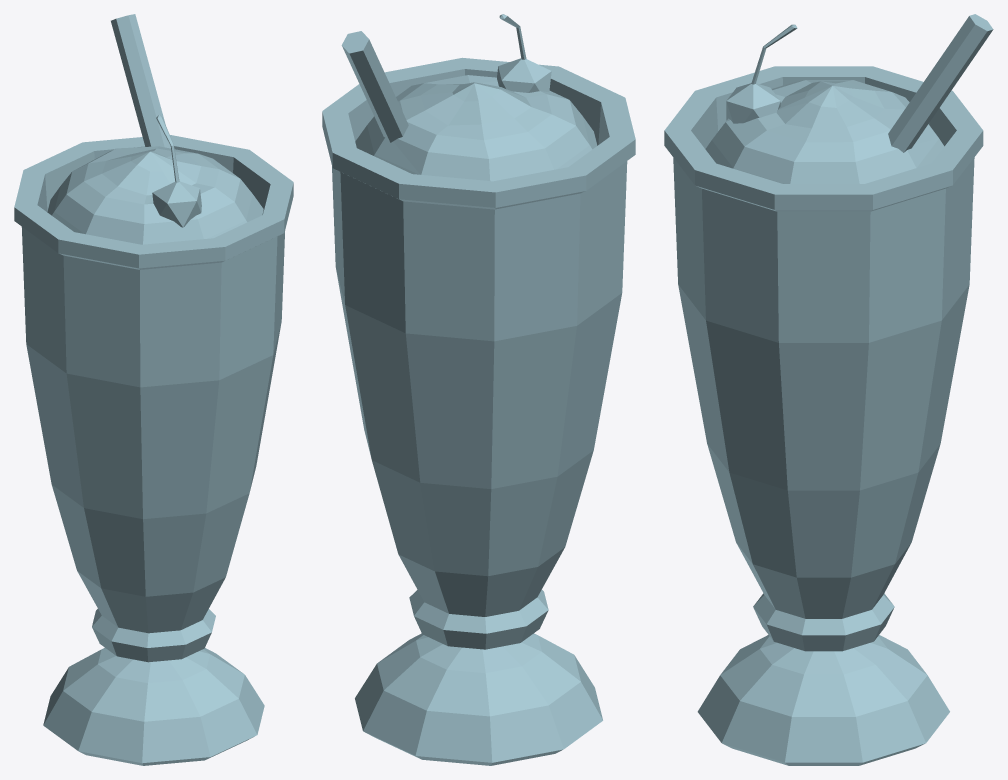
Rendered from cc0-milkshake-lod0.glb.
3 renders of one model, left to right at view 1: azimuth 30°, elevation 25°; view 2: azimuth 150°, elevation 25°; view 3: azimuth 270°, elevation 25°, orthographic. The views are drawn at different scales.
Visible parts, largest first — view 1: part_0; view 2: part_0; view 3: part_0.
Part boxes in pixels (bbox=[...]): part_0: bbox=[14, 14, 293, 765]; part_0: bbox=[322, 14, 635, 765]; part_0: bbox=[664, 14, 993, 765].
Size of the model in its own units: 0.7046 by 1.86 by 0.7645.
